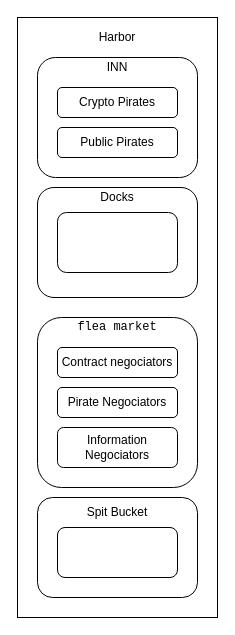
This 235x635 diagram has some shape labels left out. The shapes that lost their labels are listed below. From the top down, each one's box as (x1, y1, x2, y2) in pixels, then its label:
(56, 212, 178, 272): Connection with the Ships
(56, 526, 178, 578): Public scrutiny of negotiators
